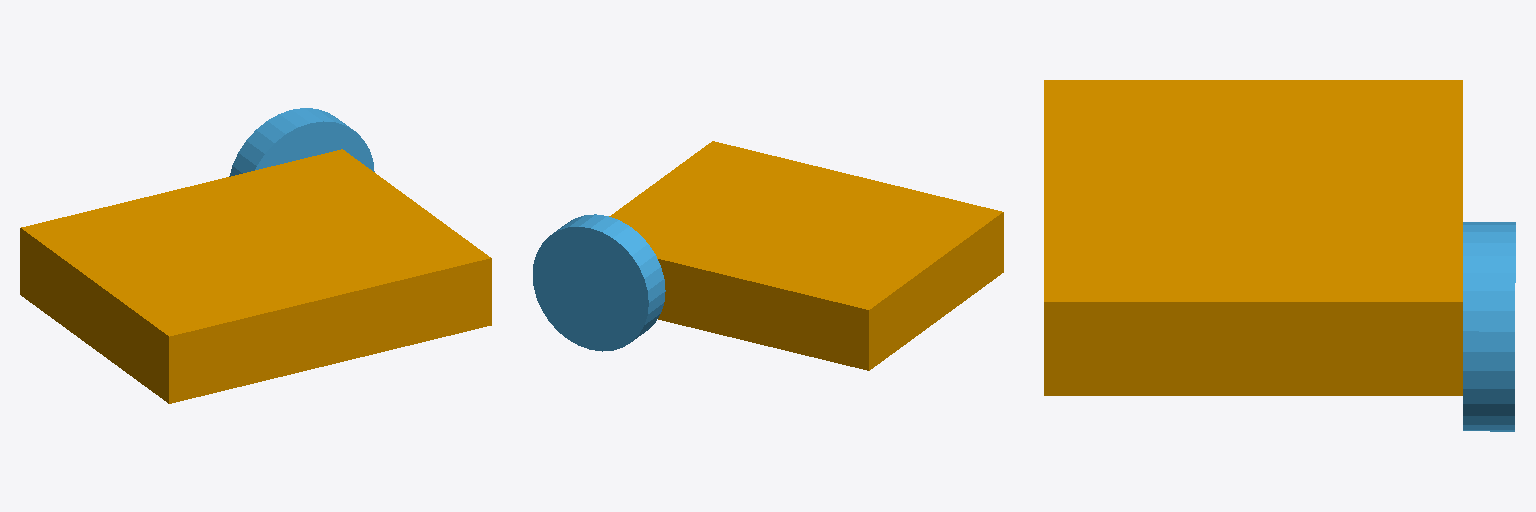
URDF robot description (my_car):
<?xml version="1.0"?>
<robot name="my_car">

    <link name="base_link">
        <visual>
            <origin xyz="0.0 0.0 0.1" rpy="0.0 0.0 0.0"/>
            <geometry>
                <box size="0.5 0.4 0.1"/>
            </geometry>
        </visual>
    </link>

    <link name="wheel_1">
        <visual>
            <origin xyz="0.0 0.0 0.0" rpy="1.57 0.0 0.0"/>
            
            <geometry>
                <cylinder radius="0.1" length="0.05"/>
            </geometry>
        </visual>
    </link>

    <joint name="joint_1" type="continuous">
        <parent link="base_link"/>
        <child link="wheel_1"/>
        <axis xyz="0 0 1"/>
        <origin xyz="0.20 0.225 0.1" rpy="0 0 0"/>
    </joint>

</robot>

--- Facts derived from the render (not from the file) ---
3 views of the same robot in one strip: view 1: azimuth 30°, elevation 25°; view 2: azimuth 150°, elevation 25°; view 3: azimuth 270°, elevation 25° (orthographic).
Robot: my_car — 2 links, 1 joints (1 continuous); root link base_link; default pose: every joint at zero.
Links seen in each view (by area): view 1: base_link, wheel_1; view 2: base_link, wheel_1; view 3: base_link, wheel_1.
Link boxes in pixels (x1=…): base_link: x1=20, y1=149, x2=491, y2=403; wheel_1: x1=229, y1=108, x2=374, y2=176; base_link: x1=609, y1=141, x2=1003, y2=370; wheel_1: x1=533, y1=214, x2=665, y2=351; base_link: x1=1044, y1=80, x2=1462, y2=395; wheel_1: x1=1463, y1=222, x2=1515, y2=431.
Bounding box of the posed robot: 0.55 × 0.4501 × 0.2 m (x, y, z).
Geometry: primitives only (box / cylinder / sphere), no mesh files.